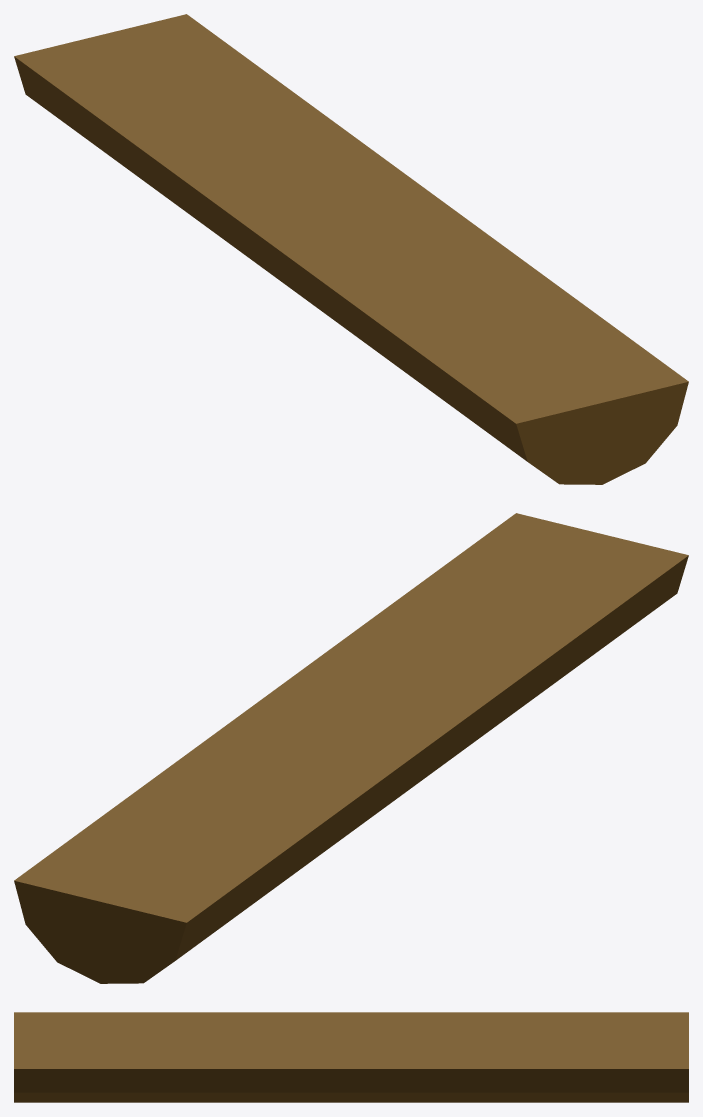
The model's file is Floor.fbx.
3 renders of one model, top to bottom at view 1: azimuth 30°, elevation 25°; view 2: azimuth 150°, elevation 25°; view 3: azimuth 270°, elevation 25°, orthographic. The views are drawn at different scales.
Parts seen in each view (by area): view 1: Cylinder; view 2: Cylinder; view 3: Cylinder.
Boxes of the visible parts, bbox=[...] form: Cylinder: bbox=[14, 14, 688, 484]; Cylinder: bbox=[14, 513, 688, 983]; Cylinder: bbox=[14, 1012, 688, 1102].
Size of the model in its own units: 39.54 by 17.96 by 199.
